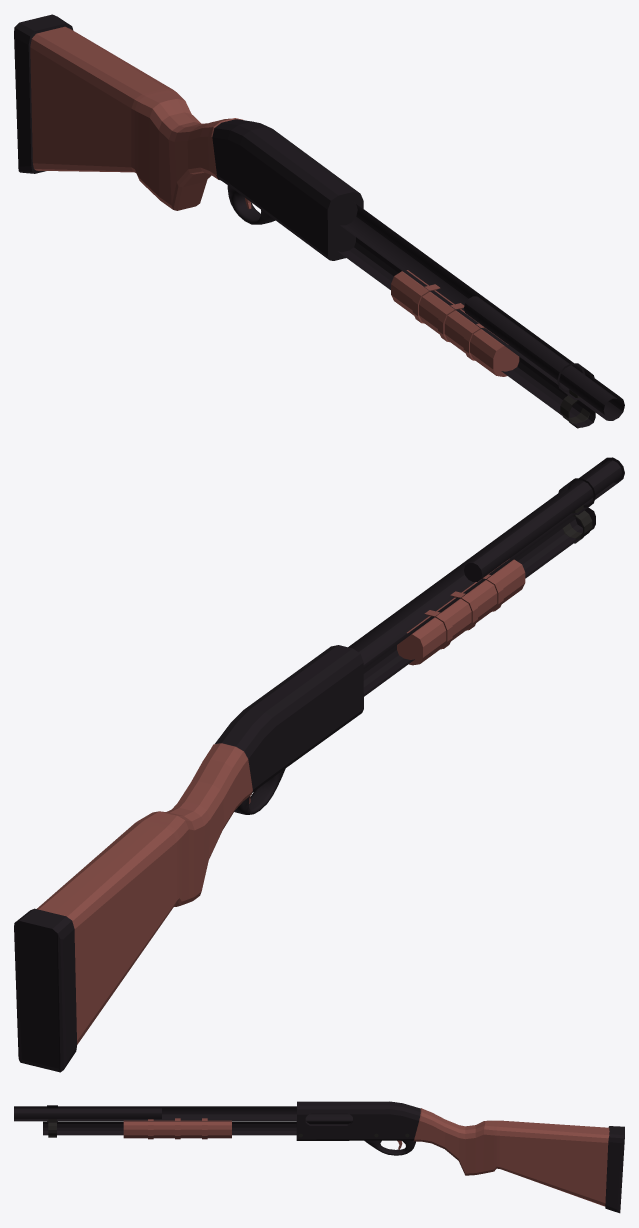
The model's file is Shotgun.fbx.
3 renders of one model, top to bottom at view 1: azimuth 30°, elevation 25°; view 2: azimuth 150°, elevation 25°; view 3: azimuth 270°, elevation 25°, orthographic. The views are drawn at different scales.
Parts seen in each view (by area): view 1: body, barrel, reload; view 2: body, barrel, reload; view 3: body, barrel, reload.
Part boxes in pixels (x1,y1,x2,y2): body: [14, 14, 595, 428]; barrel: [340, 202, 624, 420]; reload: [391, 270, 519, 376]; body: [14, 504, 595, 1072]; barrel: [348, 457, 624, 668]; reload: [397, 559, 525, 665]; body: [43, 1101, 624, 1213]; barrel: [14, 1105, 352, 1122]; reload: [123, 1118, 231, 1139].
Size of the model in its own units: 22.17 by 88.61 by 468.
